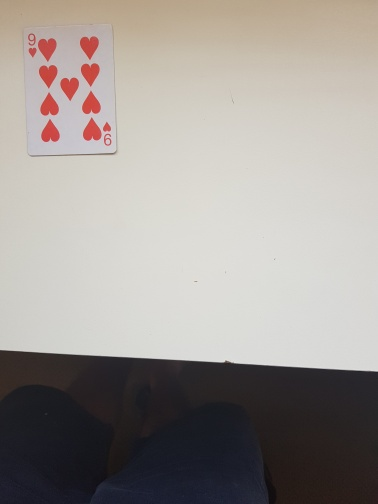nine: (21, 23, 118, 157)
